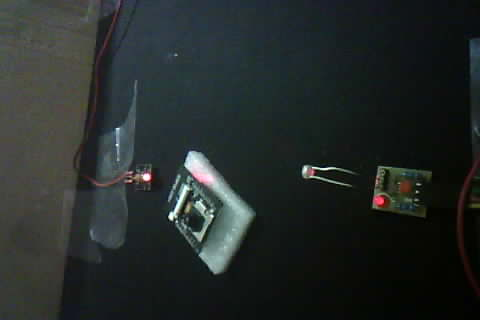esp32: (163, 152, 239, 272)
